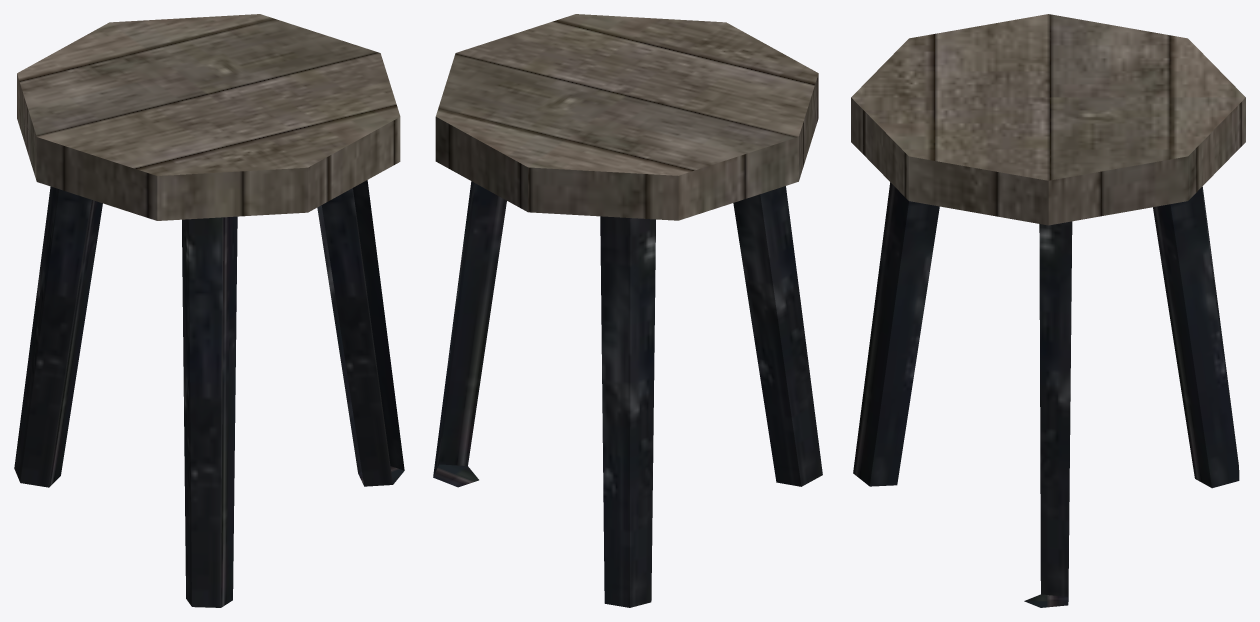
Rendered from stool_01.glb.
3 views of the same model, side by side, from view 1: azimuth 30°, elevation 25°; view 2: azimuth 150°, elevation 25°; view 3: azimuth 270°, elevation 25° (orthographic).
Parts seen in each view (by area): view 1: stool_01; view 2: stool_01; view 3: stool_01.
Part boxes in pixels (bbox=[...]): stool_01: bbox=[14, 14, 404, 607]; stool_01: bbox=[433, 14, 822, 607]; stool_01: bbox=[851, 14, 1245, 607].
Bounding box in the file's own units: 0.4235 × 0.4735 × 0.4.
2 materials, 2 textured.
